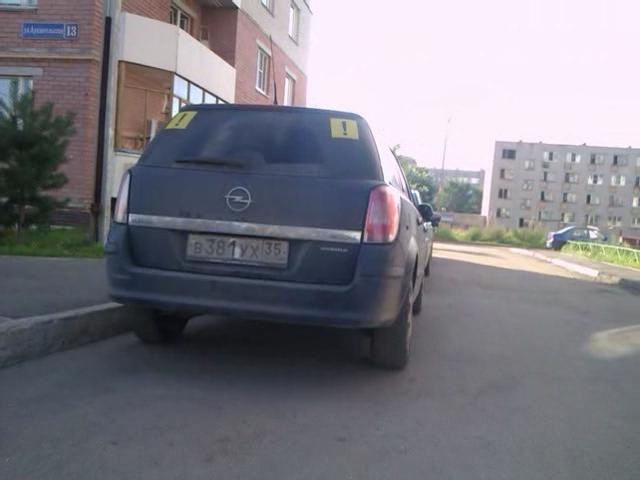car license plate: (182, 227, 289, 272)
